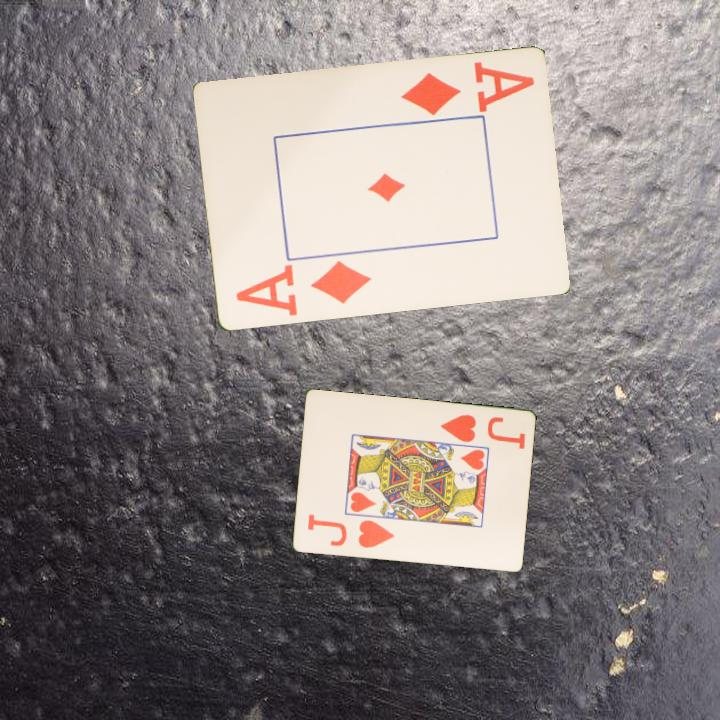Ad: (232, 258, 374, 319), (396, 58, 537, 119)
Jh: (304, 511, 397, 551), (436, 411, 479, 445)
